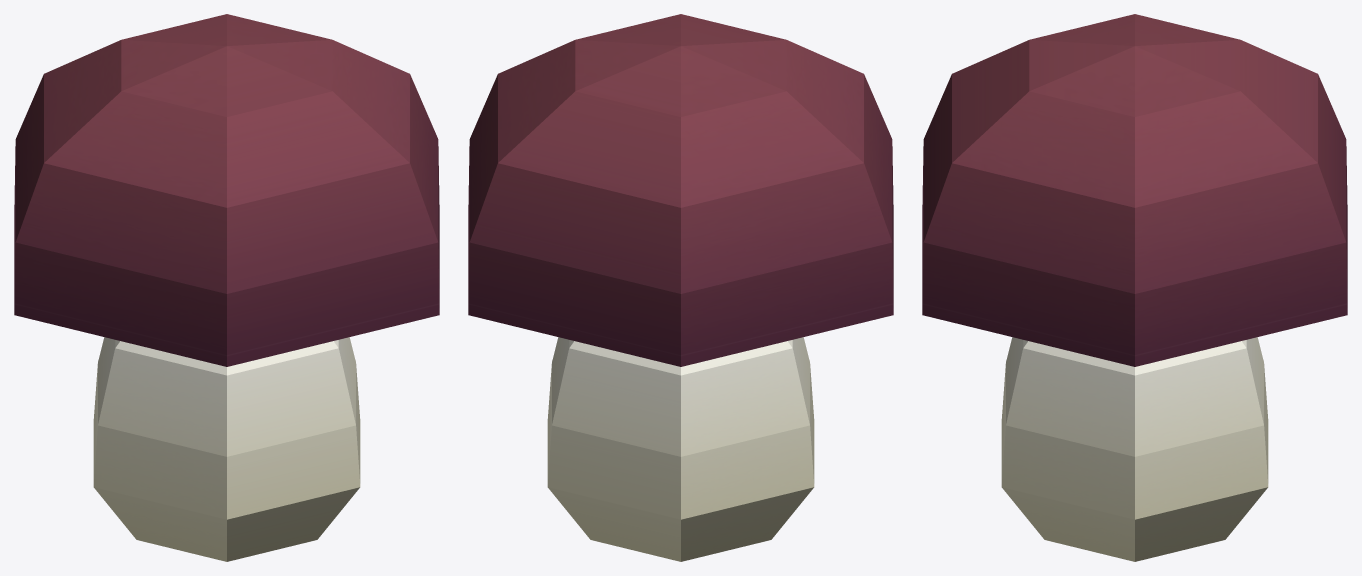
The model's file is Mushroom.fbx.
The picture shows the model from 3 angles, left to right: view 1: azimuth 30°, elevation 25°; view 2: azimuth 150°, elevation 25°; view 3: azimuth 270°, elevation 25°; orthographic projection.
Parts seen in each view (by area): view 1: pSphere2, pSphere1; view 2: pSphere2, pSphere1; view 3: pSphere2, pSphere1.
Boxes of the visible parts, <box> form: pSphere2: <box>14,14,439,366</box>; pSphere1: <box>93,337,360,561</box>; pSphere2: <box>468,14,893,366</box>; pSphere1: <box>547,337,814,561</box>; pSphere2: <box>922,14,1347,366</box>; pSphere1: <box>1001,337,1268,561</box>.
Bounding box in the file's own units: 0.5119 × 0.5426 × 0.4434.
